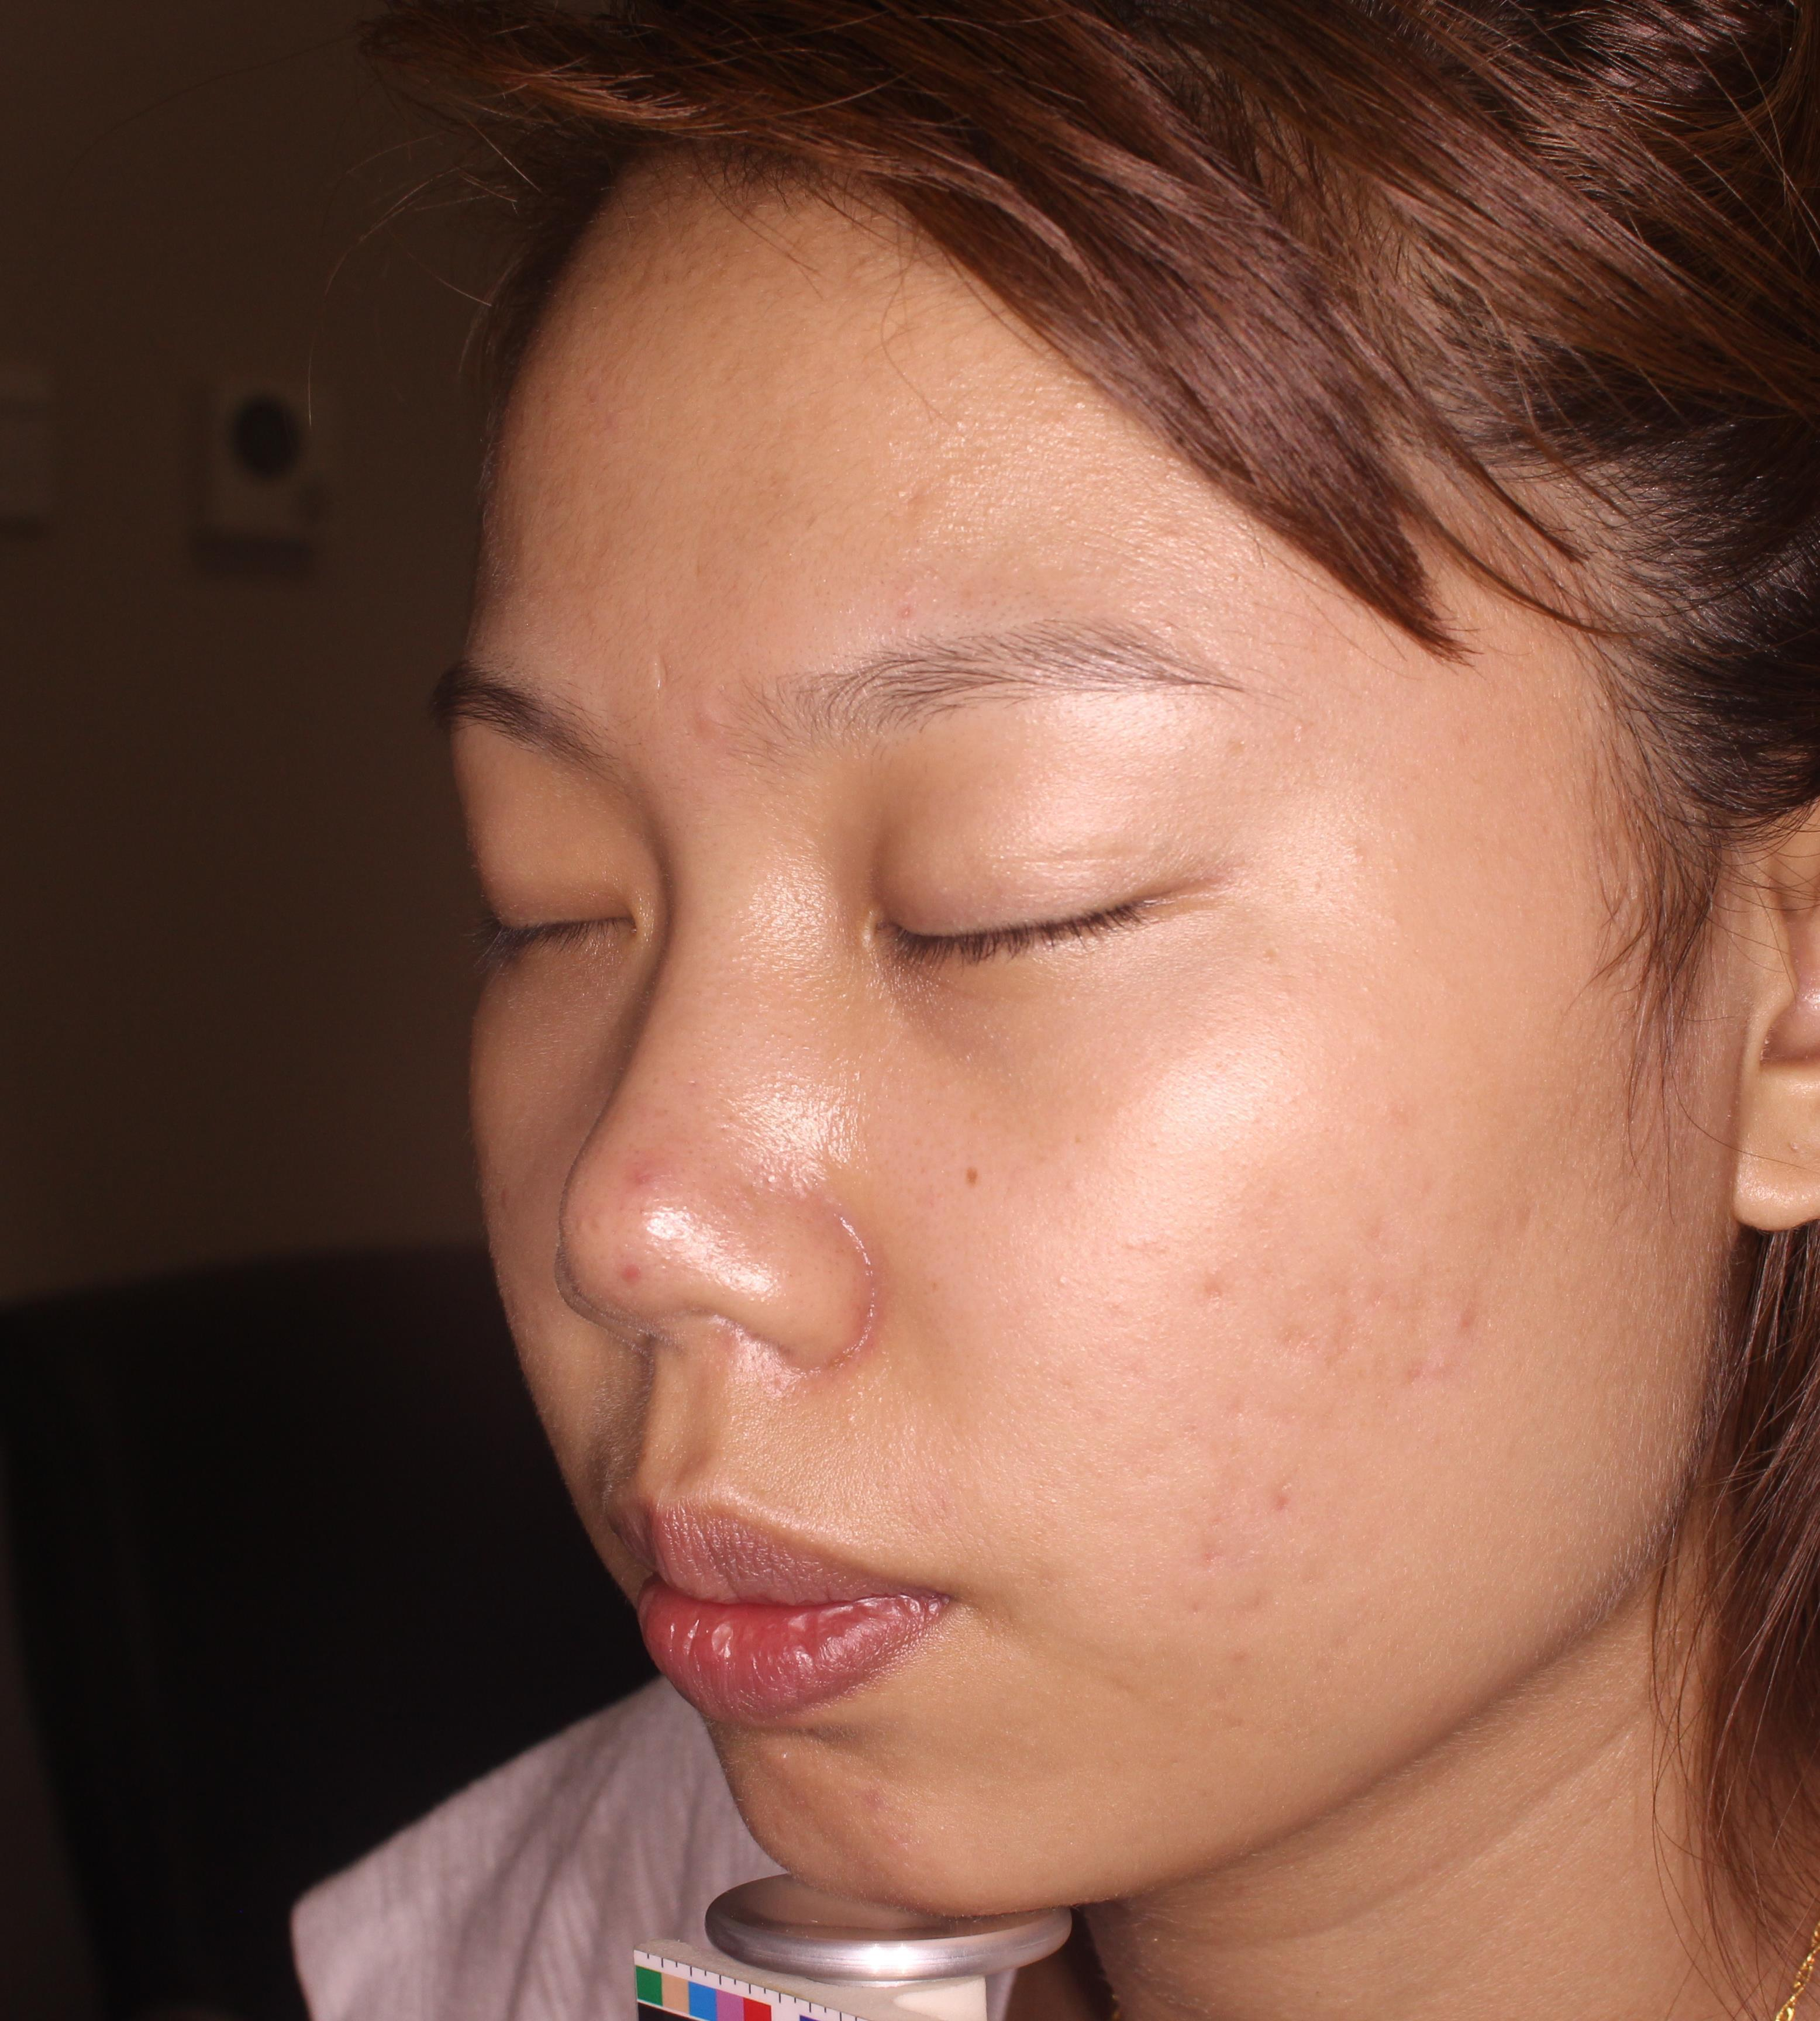fore: (1400, 1277, 1499, 1401)
